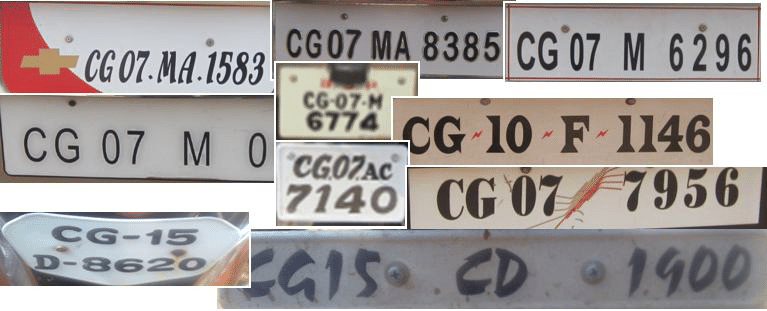number_plate: (410, 166, 761, 227), (506, 2, 759, 79), (22, 20, 270, 92), (1, 213, 244, 286)
